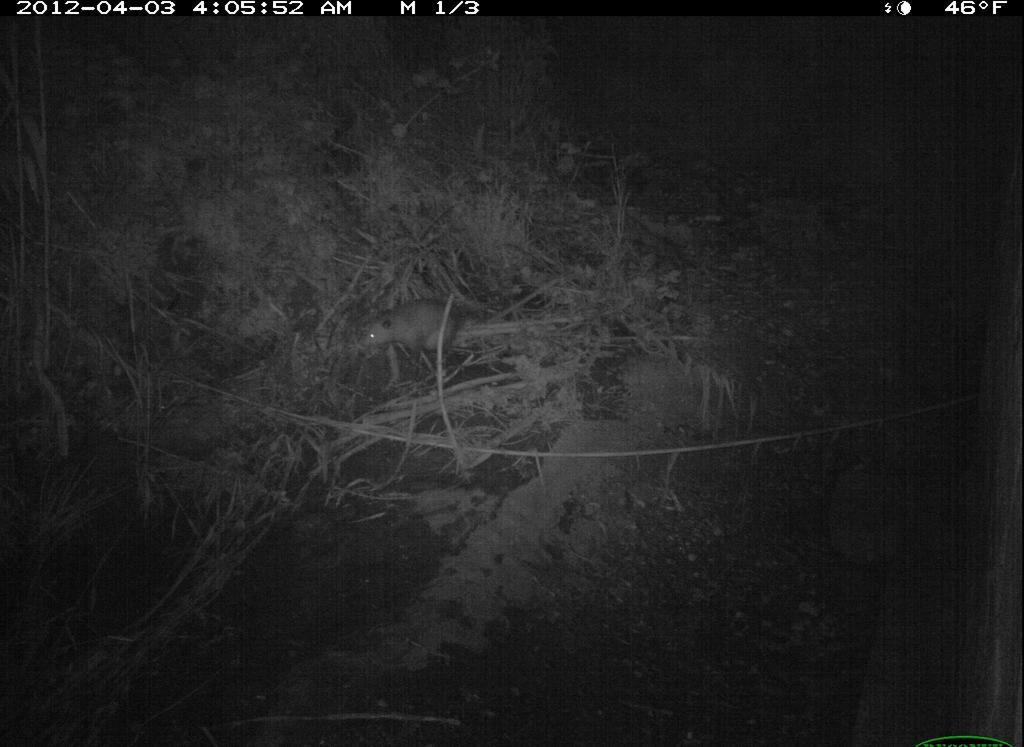opossum: (358, 296, 491, 361)
